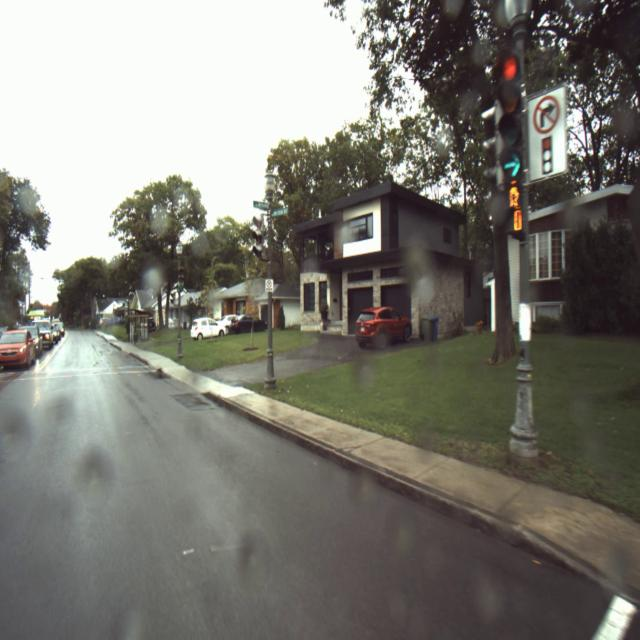trafficLight-Red: (496, 54, 522, 94)
